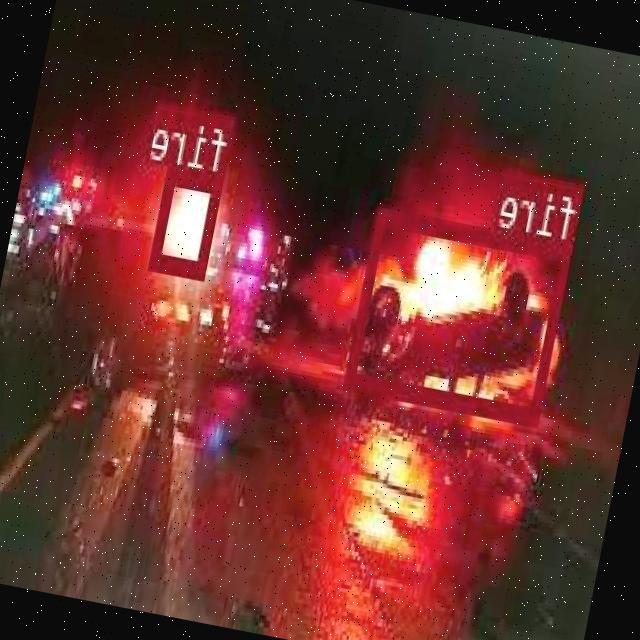fire: (346, 205, 575, 423), (151, 166, 226, 276)
